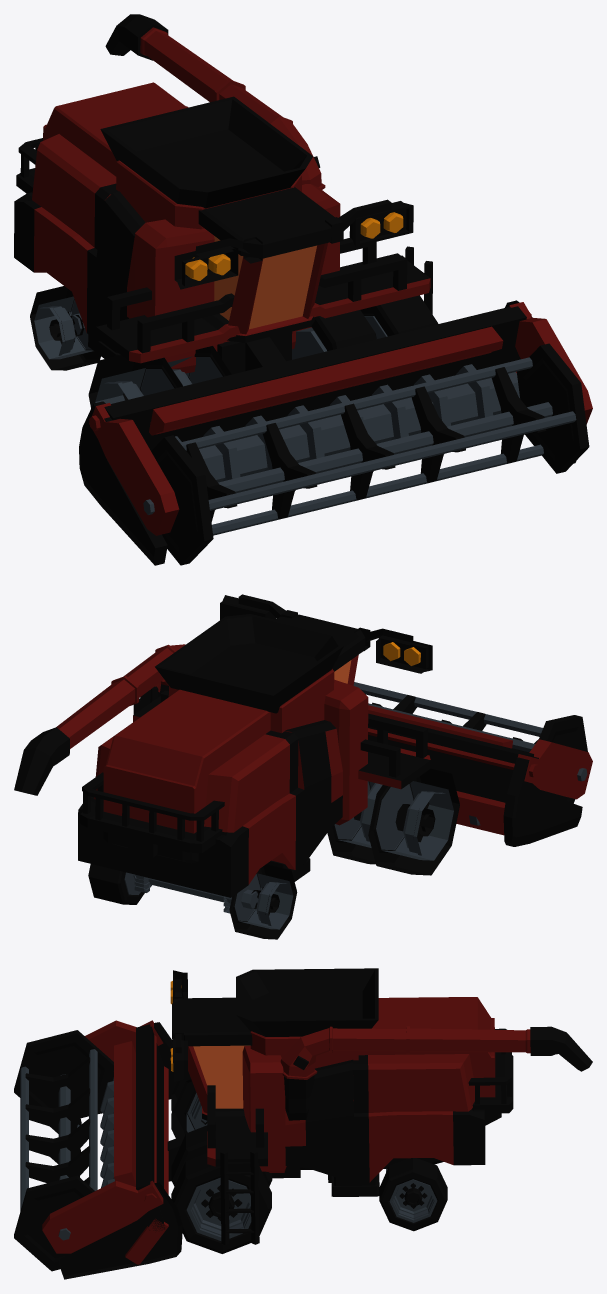
The model's file is Harvester Model.fbx.
3 renders of one model, top to bottom at view 1: azimuth 30°, elevation 25°; view 2: azimuth 150°, elevation 25°; view 3: azimuth 270°, elevation 25°, orthographic. The views are drawn at different scales.
Parts seen in each view (by area): view 1: Cube.026; view 2: Cube.026; view 3: Cube.026.
Part boxes in pixels (x1,y1,x2,y2): Cube.026: [14, 14, 592, 565]; Cube.026: [14, 594, 592, 939]; Cube.026: [14, 968, 592, 1279].
Bounding box in the file's own units: 5075 × 2857 × 7352.
